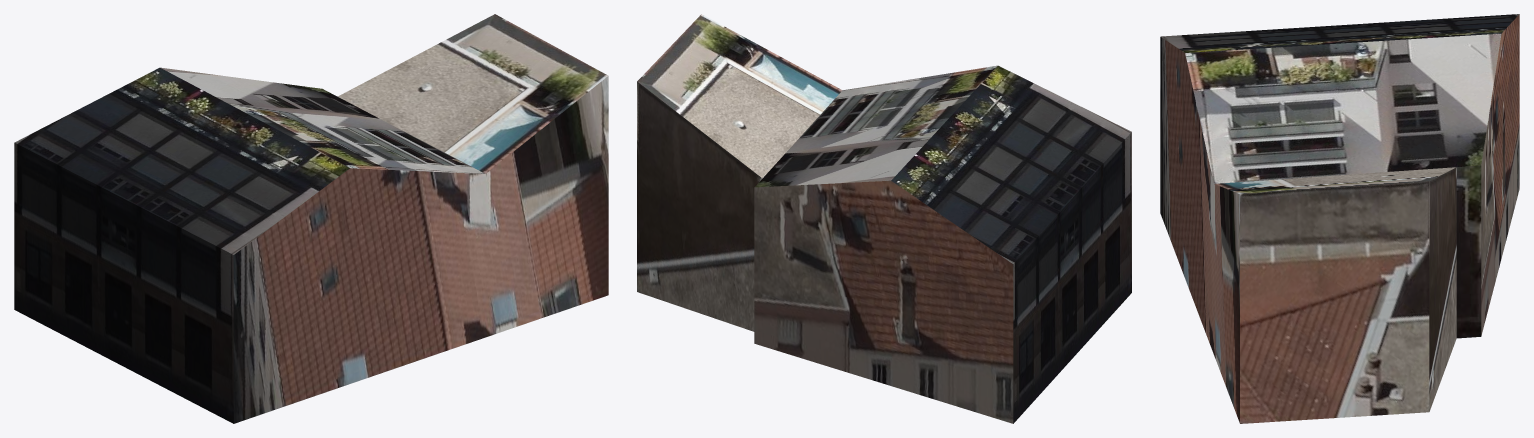
The picture shows the model from 3 angles, left to right: view 1: azimuth 30°, elevation 25°; view 2: azimuth 150°, elevation 25°; view 3: azimuth 270°, elevation 25°; orthographic projection. The views are drawn at different scales.
Parts seen in each view (by area): view 1: Z_UP; view 2: Z_UP; view 3: Z_UP.
Boxes of the visible parts, x1,y1,x2,y2 form: Z_UP: [14, 14, 608, 423]; Z_UP: [637, 14, 1131, 423]; Z_UP: [1160, 14, 1519, 423].
Bounding box in the file's own units: 22.69 × 10.39 × 14.66.
2 materials, 1 textured.
